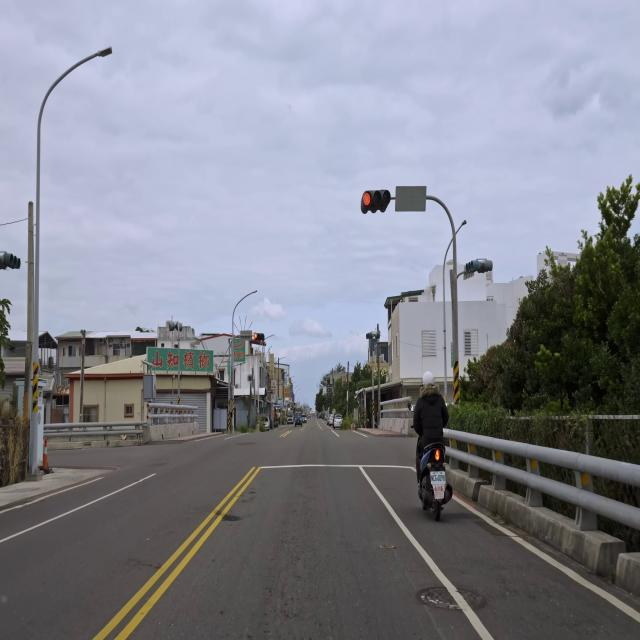red light: (360, 190, 390, 212), (253, 332, 264, 341)
